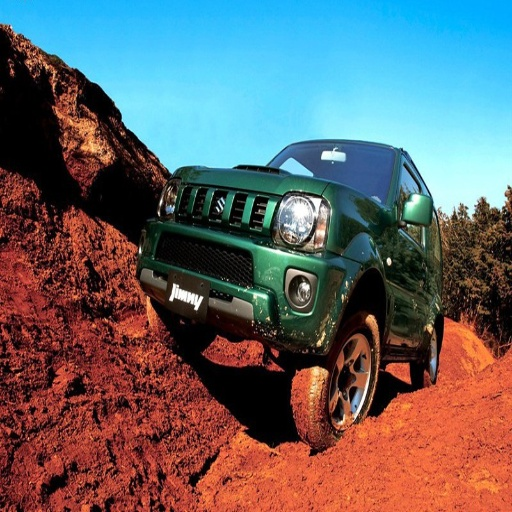front_bumper: (143, 182, 355, 356)
front_left_light: (265, 192, 328, 248)
